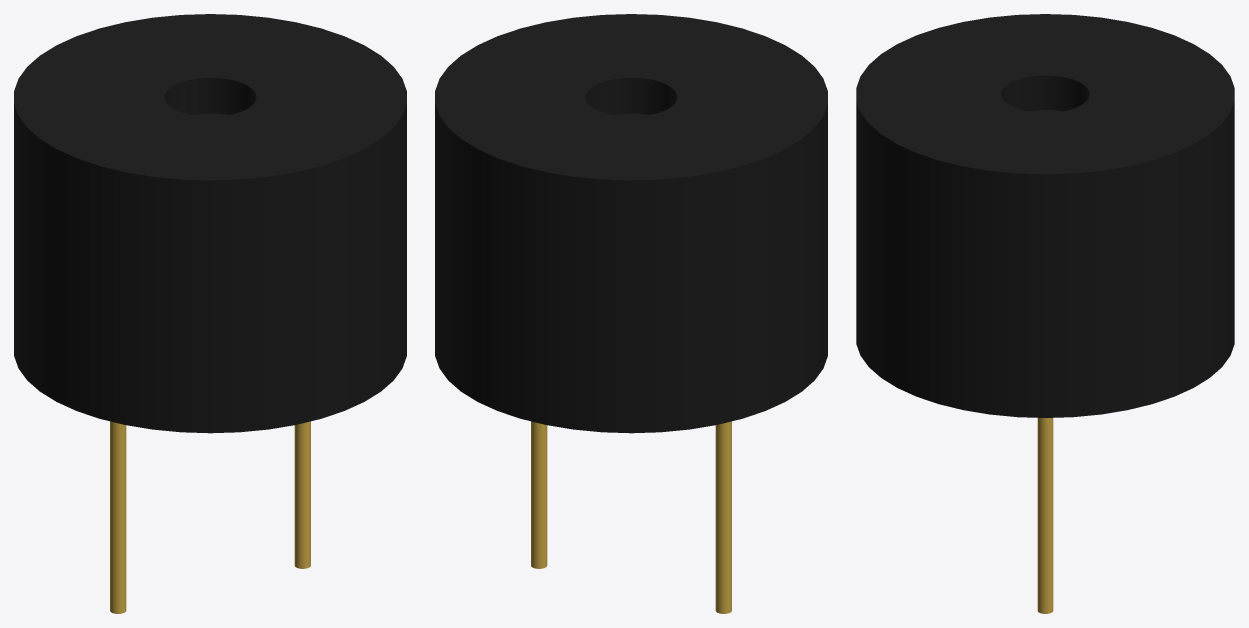
File: buzzer-12mm.glb
3 renders of one model, left to right at view 1: azimuth 30°, elevation 25°; view 2: azimuth 150°, elevation 25°; view 3: azimuth 270°, elevation 25°, orthographic. The views are drawn at different scales.
Parts seen in each view (by area): view 1: object 1, lead-1, lead-2; view 2: object 1, lead-1, lead-2; view 3: object 1, lead-2.
Boxes of the visible parts, left/top/right/bottom form: object 1: left=14, top=14, right=406, bottom=433; lead-1: left=110, top=421, right=126, bottom=613; lead-2: left=294, top=421, right=310, bottom=568; object 1: left=435, top=14, right=827, bottom=433; lead-1: left=715, top=421, right=731, bottom=613; lead-2: left=531, top=421, right=547, bottom=568; object 1: left=856, top=14, right=1234, bottom=417; lead-2: left=1037, top=418, right=1053, bottom=613.
Bounding box in the file's own units: 0.012 × 0.0165 × 0.012.
